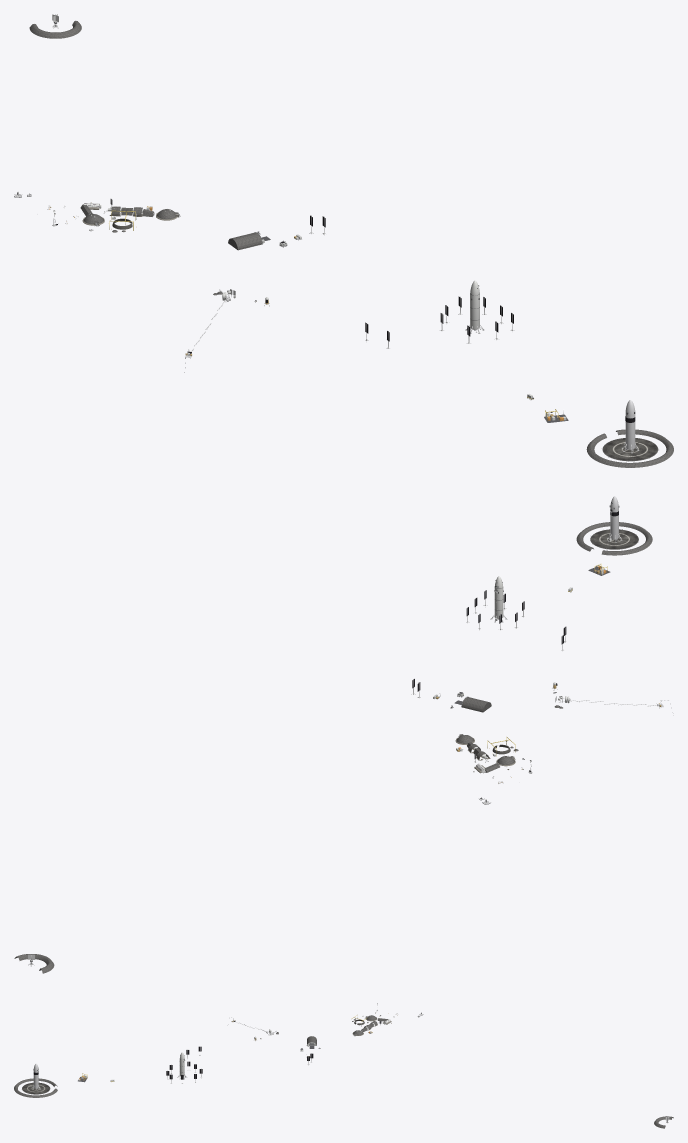
3 views of the same model, one above another, from view 1: azimuth 30°, elevation 25°; view 2: azimuth 150°, elevation 25°; view 3: azimuth 270°, elevation 25° (orthographic). The views are drawn at different scales.
Parts seen in each view (by area): view 1: 3__landing_pad__regolith, 3__landing_pad__pad; view 2: 3__landing_pad__regolith; view 3: 3__landing_pad__regolith, 3__landing_pad__pad.
Boxes of the visible parts, left/top/right/bottom form: 3__landing_pad__regolith: left=586, top=429, right=673, bottom=467; 3__landing_pad__pad: left=603, top=438, right=657, bottom=460; 3__landing_pad__regolith: left=576, top=522, right=652, bottom=555; 3__landing_pad__regolith: left=14, top=1078, right=57, bottom=1097; 3__landing_pad__pad: left=22, top=1082, right=49, bottom=1094.
Size of the model in its own units: 346 by 112 by 1192.
26 materials, 13 textured.
